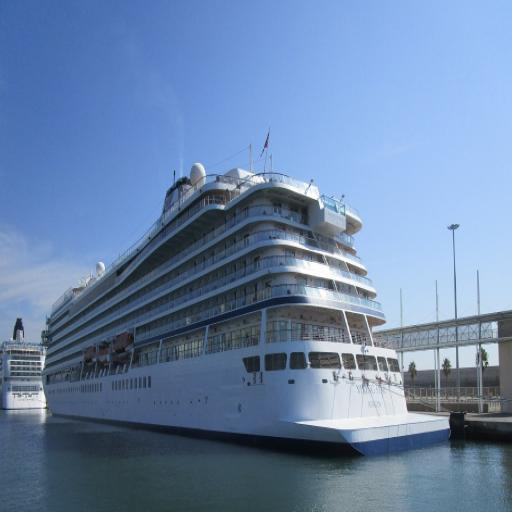cruises: (42, 150, 454, 455), (5, 312, 50, 413)
